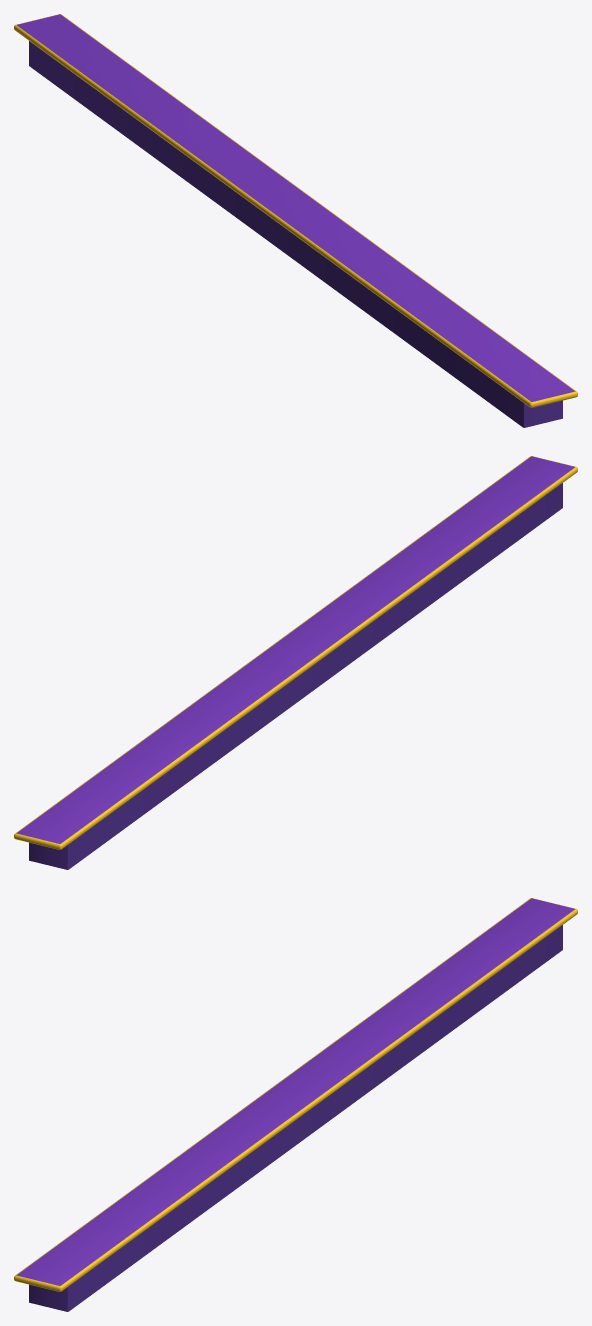
The picture shows the model from 3 angles, top to bottom: view 1: azimuth 30°, elevation 25°; view 2: azimuth 150°, elevation 25°; view 3: azimuth 330°, elevation 25°; orthographic projection.
Parts seen in each view (by area): view 1: SM_Box; view 2: SM_Box; view 3: SM_Box.
Boxes of the visible parts, x1,y1,x2,y2 form: SM_Box: (14, 14, 577, 427); SM_Box: (14, 456, 577, 869); SM_Box: (14, 898, 577, 1311).
Bounding box in the file's own units: 0.7 × 0.47 × 13.06.
